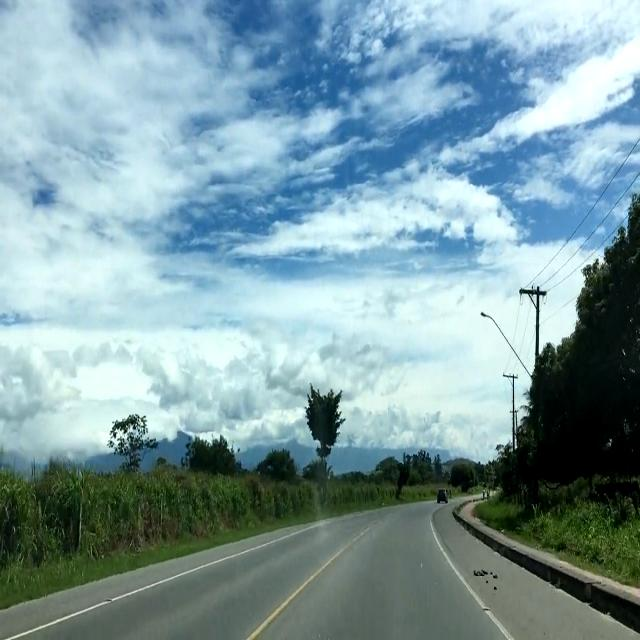lane: (4, 529, 306, 639), (246, 529, 368, 640), (431, 522, 516, 640)
road: (0, 500, 640, 640)
